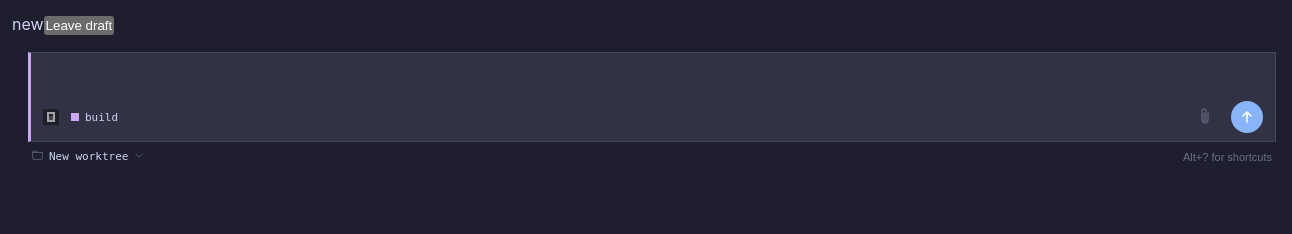
Test: new-conversation submission lifecycle › does not automatically replay an uncertain creation
This screenshot has width=1292, height=234.
Type "create once" into the text box at (653, 75), box [31,53,1275,97]
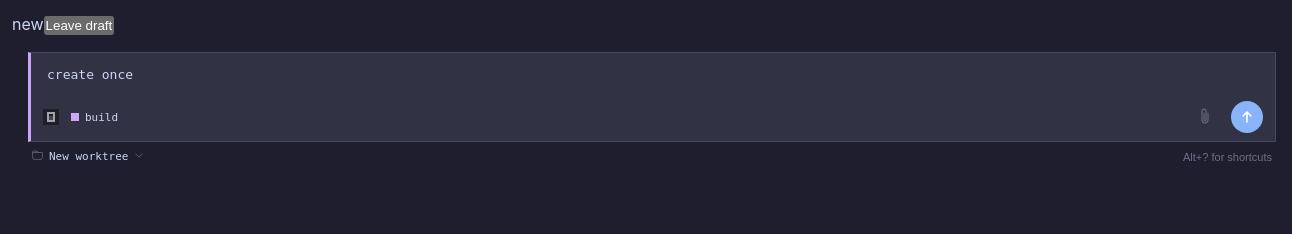
Press Enter in the text box, box [31,53,1275,97]
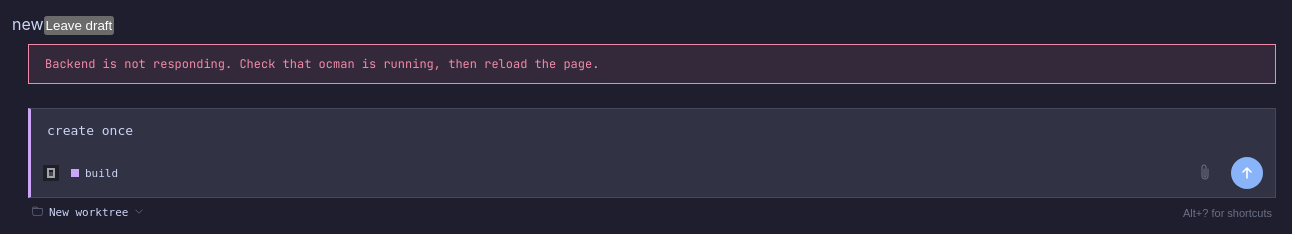
Check: the text box is enabled, box [31,109,1275,153]
Check: the message "Backend is not responding. Check that ocman is running, then reload the page." is shown, box [28,44,1276,84]
